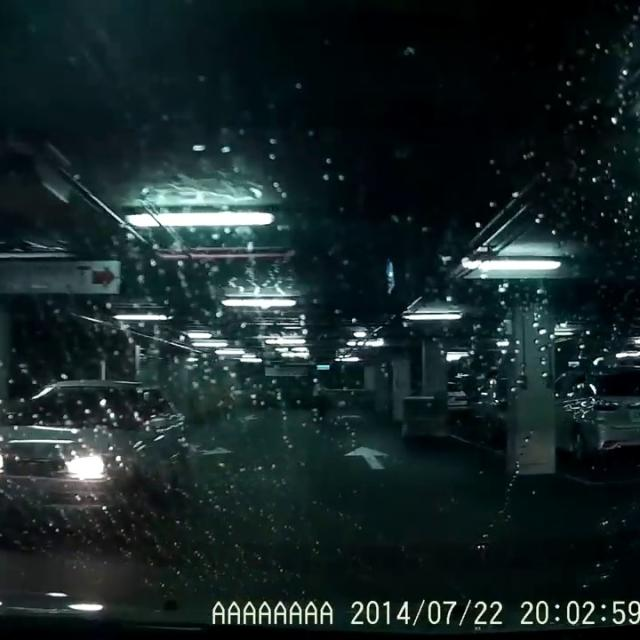Car: (0, 377, 188, 530), (550, 364, 639, 466)
